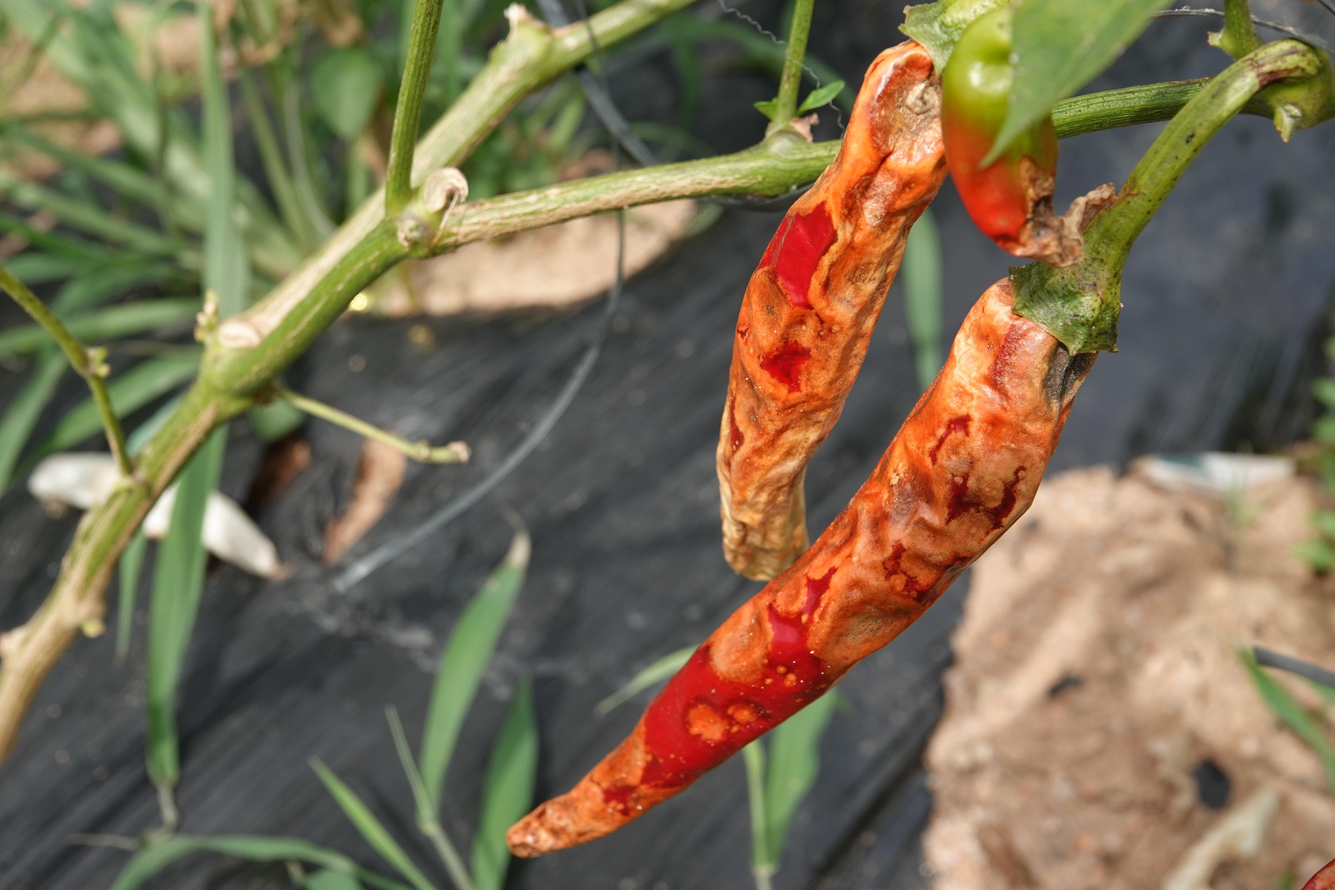Busuk Buah Antraknosa: (503, 264, 1126, 867), (708, 28, 964, 591)
